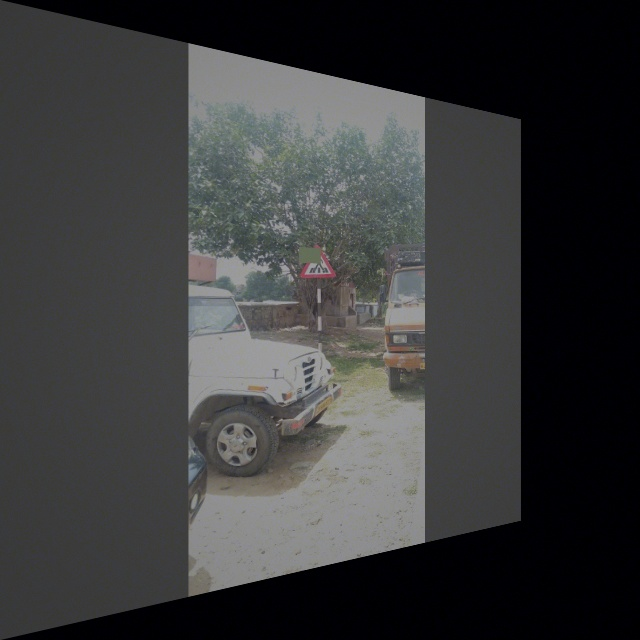Pedestrian_Crossing: (295, 236, 344, 282)
